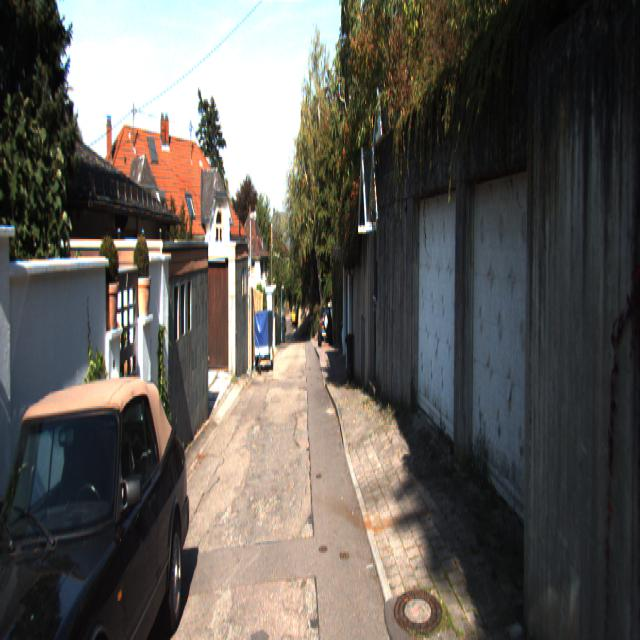Car: (0, 352, 192, 638), (254, 306, 273, 373), (317, 305, 333, 347)
